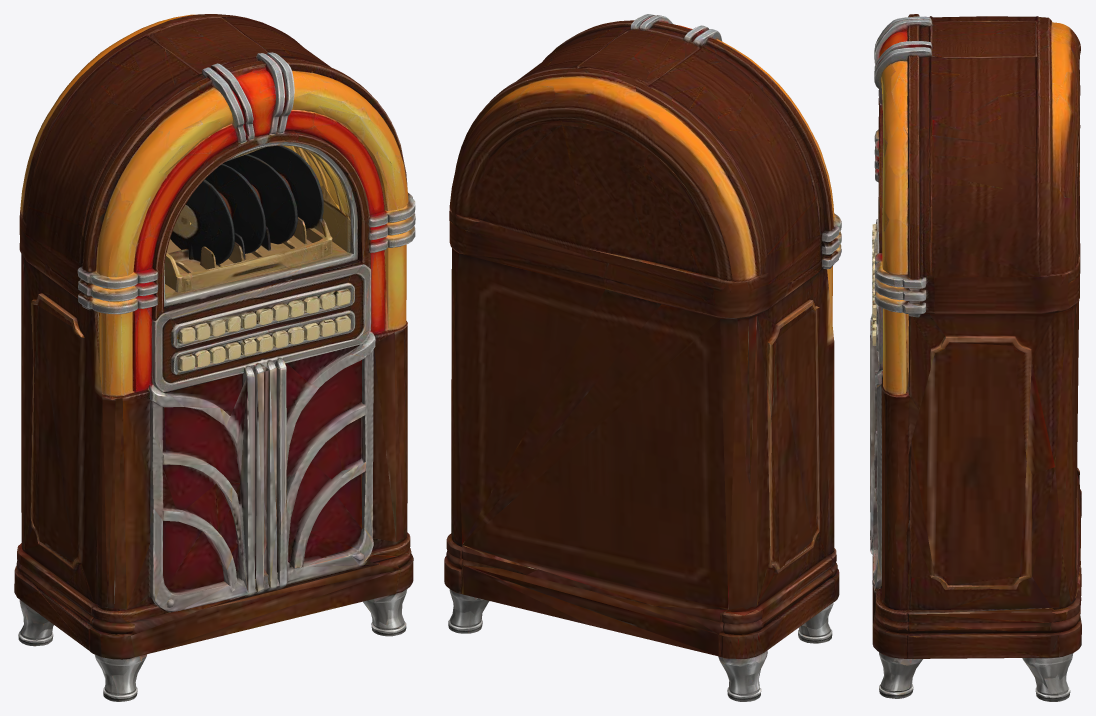
Rendered from jukebox.glb.
3 renders of one model, left to right at view 1: azimuth 30°, elevation 25°; view 2: azimuth 150°, elevation 25°; view 3: azimuth 270°, elevation 25°, orthographic.
Parts seen in each view (by area): view 1: Mesh_0; view 2: Mesh_0; view 3: Mesh_0.
Part boxes in pixels (x1,y1,x2,y2): Mesh_0: (14, 14, 415, 701); Mesh_0: (444, 14, 841, 701); Mesh_0: (870, 14, 1081, 701).
Size of the model in its own units: 1.1 by 1.9 by 0.6139.
1 material, 1 textured.
